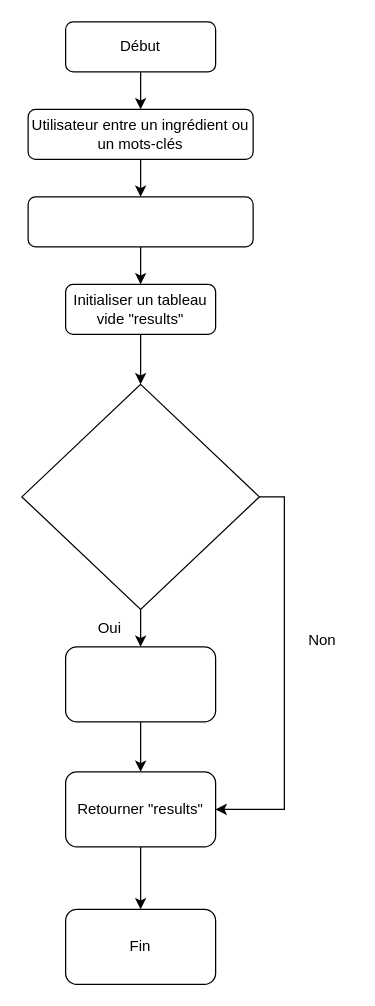
Some shapes in this 375 by 1006 pixel diagram are drawn without their labels. Each missing label, with the centre of its shape:
Ajouter à "results": the point at 140,684
Initialiser une liste avec le ou les mots-clés "search_terms": the point at 140,221
Pour chaque élément de "recipes", est-ce que l'élément contient "search_terms" ?: the point at 140,496
